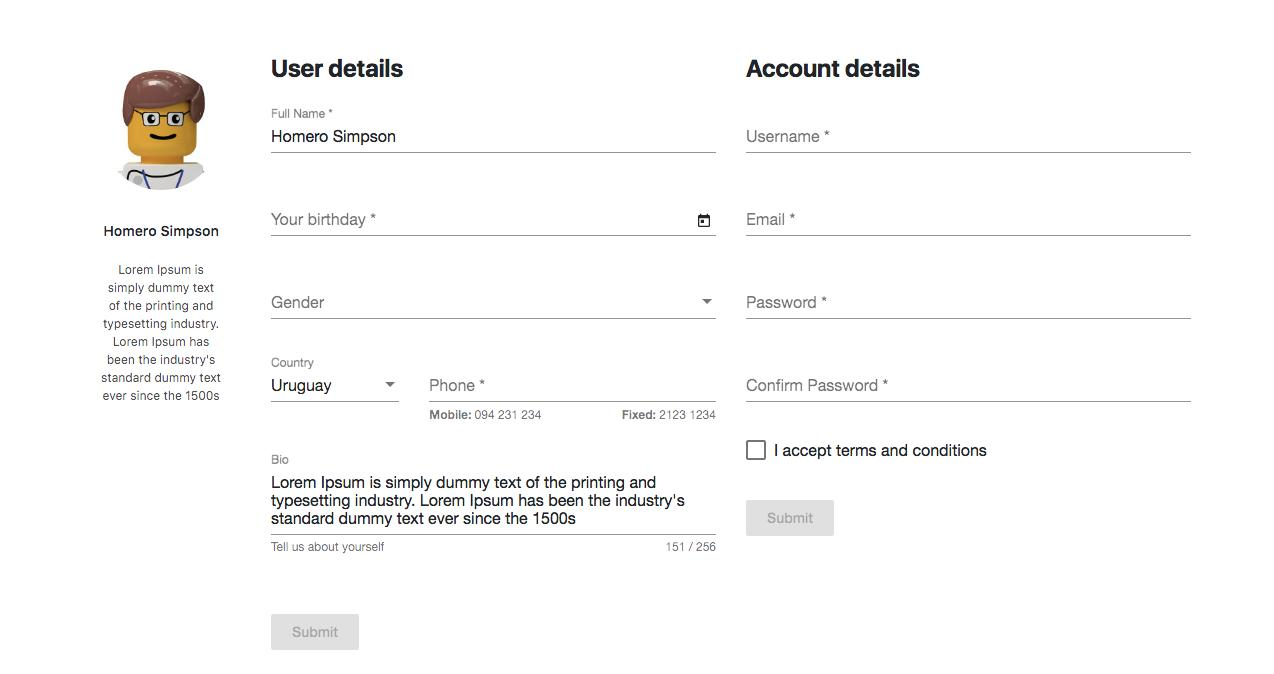button: (732, 496, 848, 540)
checkbox: (735, 431, 1003, 485)
dropdown: (266, 272, 721, 329), (267, 352, 404, 409)
textbox: (738, 267, 1202, 337), (737, 362, 1207, 413), (738, 119, 1204, 162), (419, 364, 720, 428), (263, 124, 721, 163)
